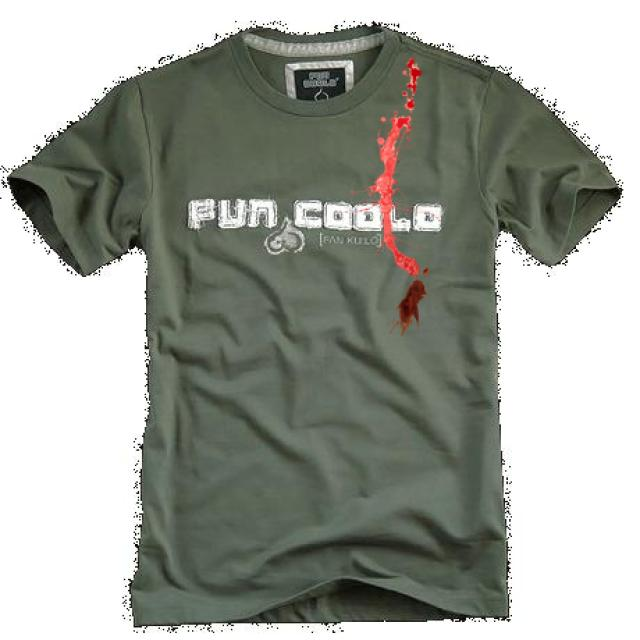stain: (363, 60, 450, 336), (352, 61, 448, 266), (361, 264, 450, 332)
